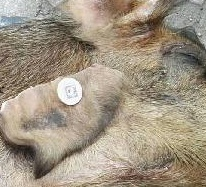text: (48, 70, 93, 111)
